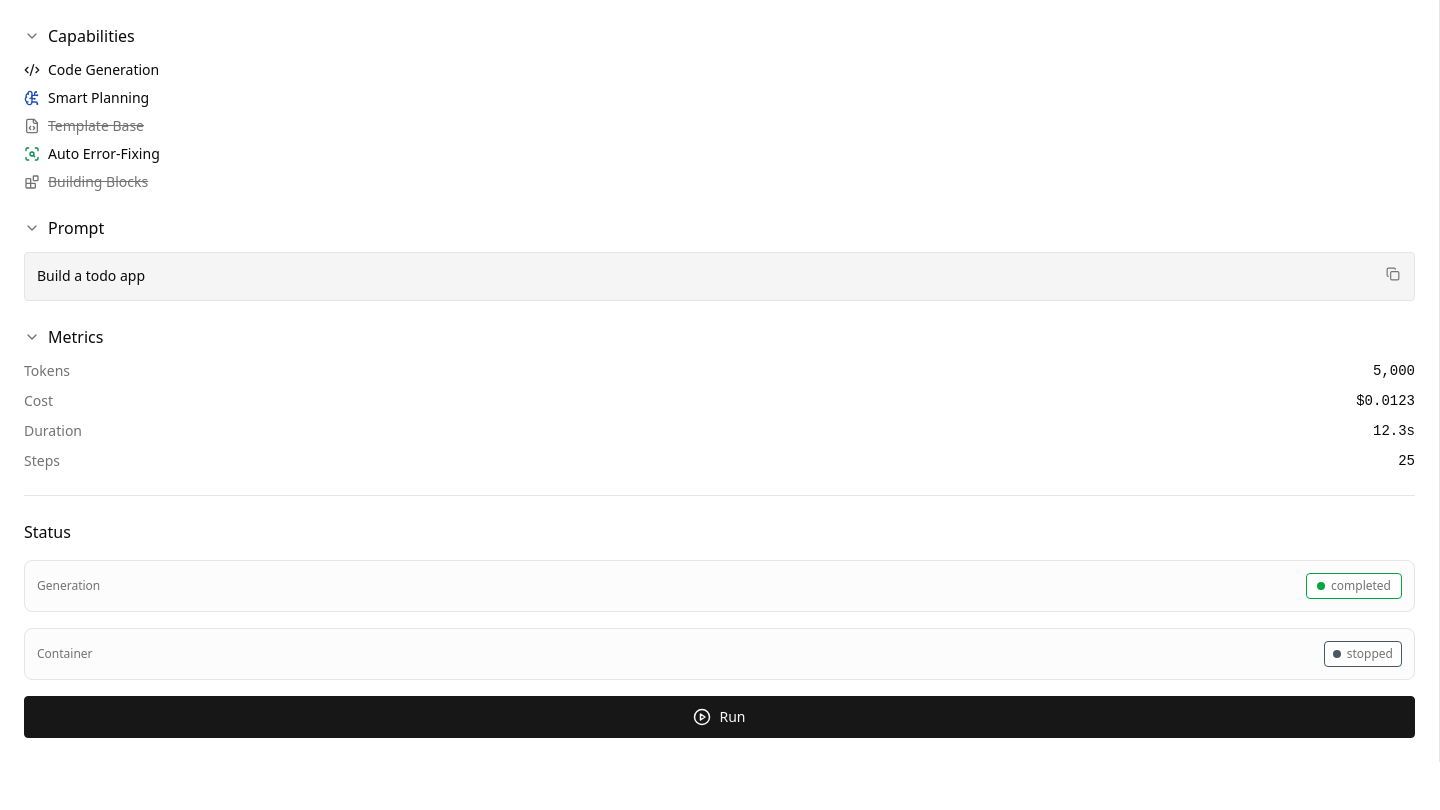
Test: SessionSidebar › Collapsible Sections › can collapse capabilities section
Expected: the text "Code Generation" is shown, [48,60,159,80]
Click to collapse
Click the button with aria-label "toggle capabilities" at x=91, y=36, box [24,24,1415,48]
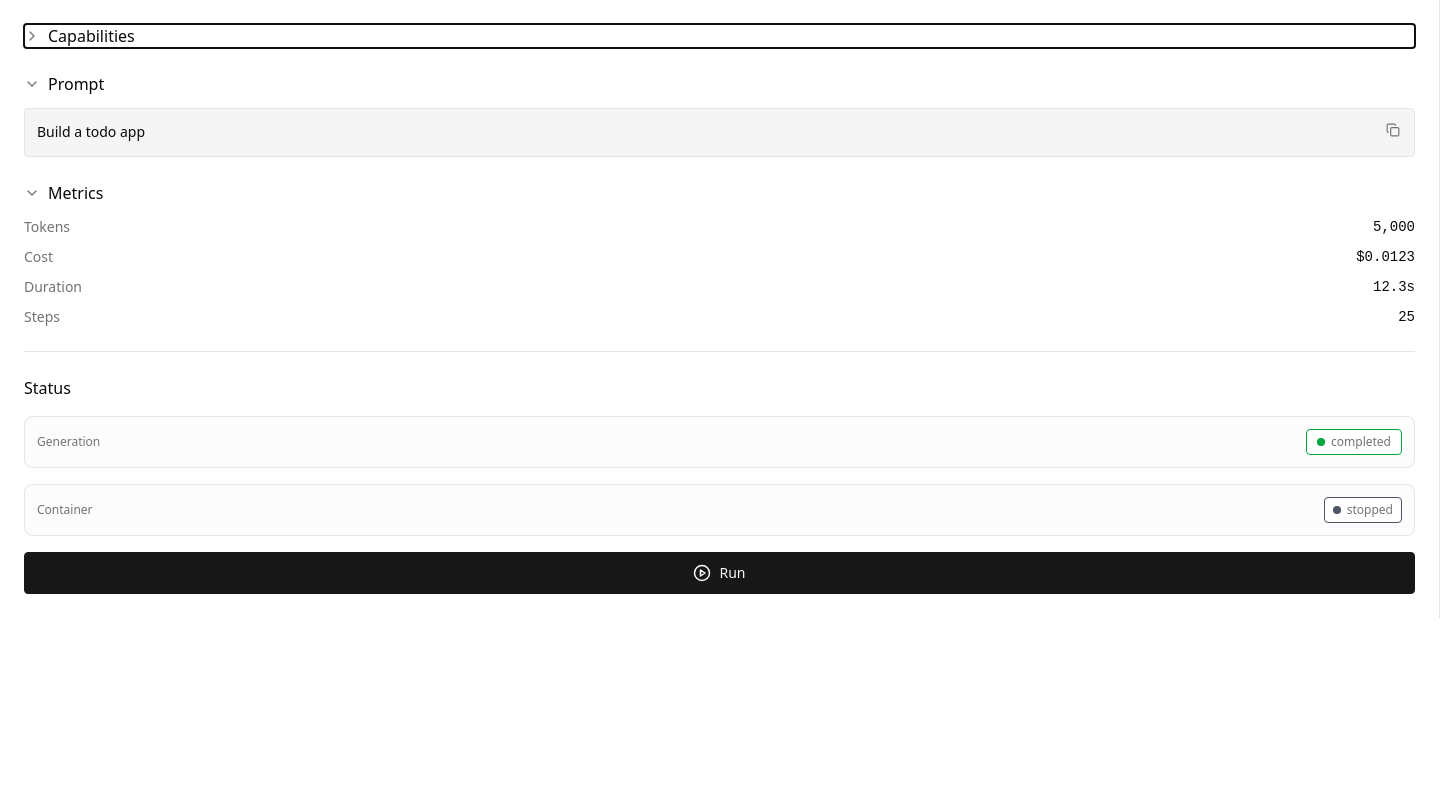
Expected: the text "Code Generation" is gone
